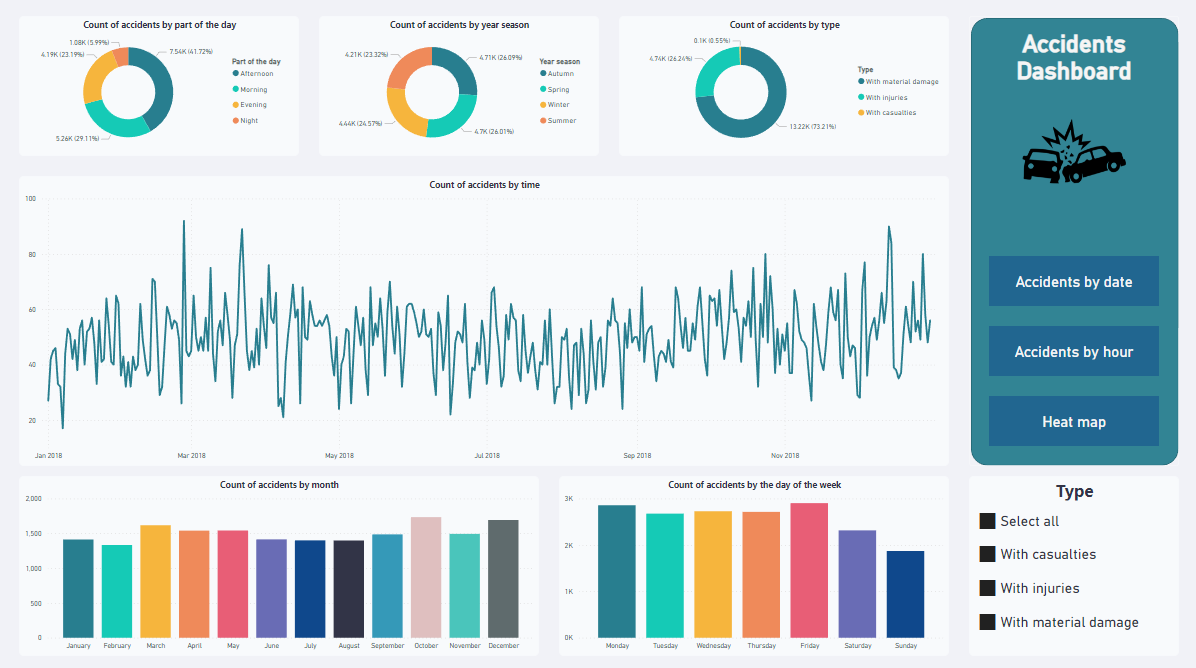

This screenshot's page, from the dashboard's own definition file:
{"tool":"powerbi","page":{"name":"Page 1","canvas":[1920,1080],"ordinal":0},"visuals":[{"type":"donutChart","title":"Count of accidents by type","fields":{"Y":["CountNonNull(Accidents data.Accident number)"],"Category":["Accidents data.Type"]},"box":[992,32,528,224],"z":0},{"type":"columnChart","title":"Count of accidents by the day of the week","fields":{"Category":["DateTable.DayName"],"Y":["CountNonNull(Accidents data.Accident number)"],"Series":["DateTable.DayName"]},"box":[896,768,624,288],"z":2000},{"type":"columnChart","title":"Count of accidents by month","fields":{"Y":["CountNonNull(Accidents data.Accident number)"],"Series":["DateTable.MonthName"],"Category":["DateTable.MonthName"]},"box":[32,768,832,288],"z":3000},{"type":"donutChart","title":"Count of accidents by year season","fields":{"Category":["DateTable.YearSeason"],"Y":["CountNonNull(Accidents data.Accident number)"]},"box":[512,32,448,224],"z":4000},{"type":"donutChart","title":"Count of accidents by part of the day","fields":{"Y":["CountNonNull(Accidents data.Accident number)"],"Category":["TimeTable.PartOfDay"]},"box":[32,32,448,224],"z":5000},{"type":"slicer","title":"Type","fields":{"Values":["Accidents data.Type"]},"box":[1552,768,336,288],"z":7000},{"type":"shape","box":[1552,32,336,720],"z":8000},{"type":"actionButton","box":[1584,416,272,80],"z":9000},{"type":"actionButton","box":[1584,528,272,80],"z":10000},{"type":"actionButton","box":[1584,640,272,80],"z":11000},{"type":"image","box":[1632,176,176,144],"z":12000},{"type":"textbox","box":[1568,48,304,128],"z":13000},{"type":"heatmapF244EA9EE1F34E828A80CF19B41976F8","title":"Heat map of accidents","fields":{"latitude":["Accidents data.Latitude"],"longitude":["Accidents data.Longitude"],"group":["Accidents data.Type"]},"box":[32,288,1488,448],"z":14000}]}

Visuals, with their boxes in screenshot pixels (x1, y1, x2, y2), scaled from the page's 1920x1080 canvas onto the 1196x668 screenshot:
"Count of accidents by type" donutChart: (left=618, top=20, right=947, bottom=158)
"Count of accidents by the day of the week" columnChart: (left=558, top=475, right=947, bottom=653)
"Count of accidents by month" columnChart: (left=20, top=475, right=538, bottom=653)
"Count of accidents by year season" donutChart: (left=319, top=20, right=598, bottom=158)
"Count of accidents by part of the day" donutChart: (left=20, top=20, right=299, bottom=158)
"Type" slicer: (left=967, top=475, right=1176, bottom=653)
shape: (left=967, top=20, right=1176, bottom=465)
actionButton: (left=987, top=257, right=1156, bottom=307)
actionButton: (left=987, top=327, right=1156, bottom=376)
actionButton: (left=987, top=396, right=1156, bottom=445)
image: (left=1017, top=109, right=1126, bottom=198)
textbox: (left=977, top=30, right=1166, bottom=109)
"Heat map of accidents" heatmapF244EA9EE1F34E828A80CF19B41976F8: (left=20, top=178, right=947, bottom=455)
